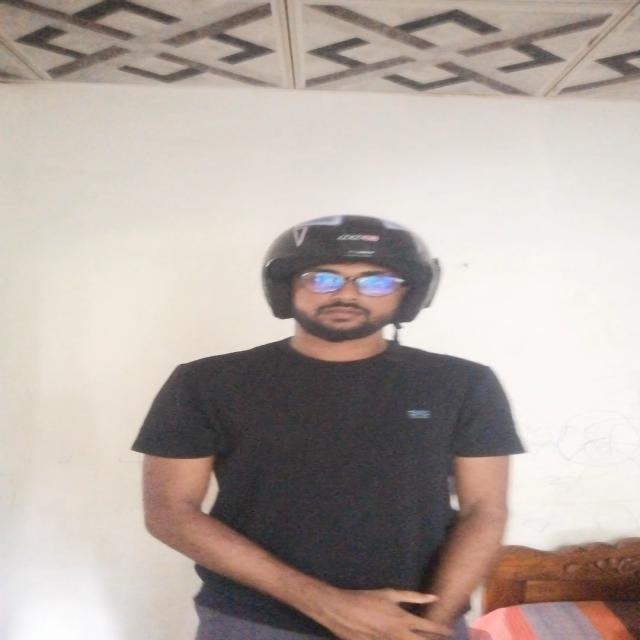Helmet_Wearer: (246, 211, 452, 384)
Person: (139, 204, 501, 640)
